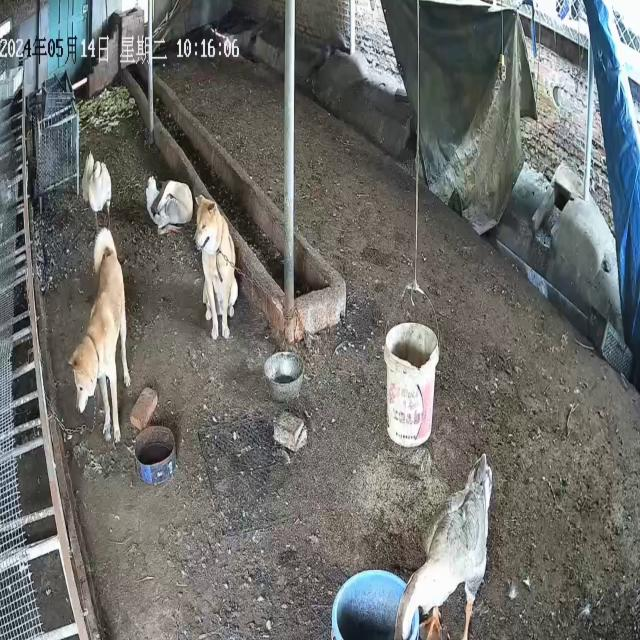dog: (69, 227, 132, 445), (194, 194, 239, 341)
